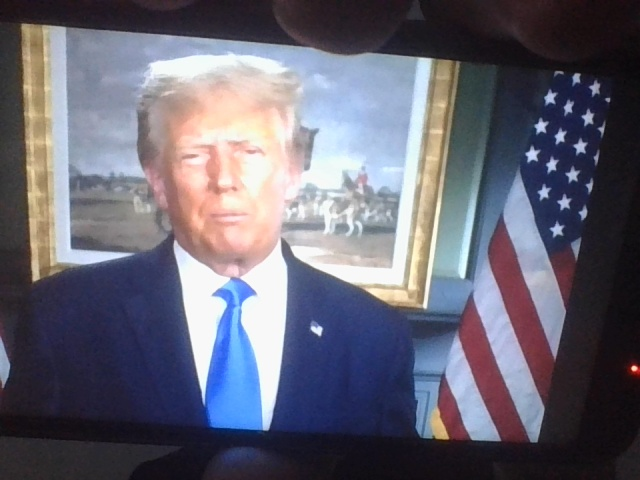fake: (149, 34, 315, 270)
